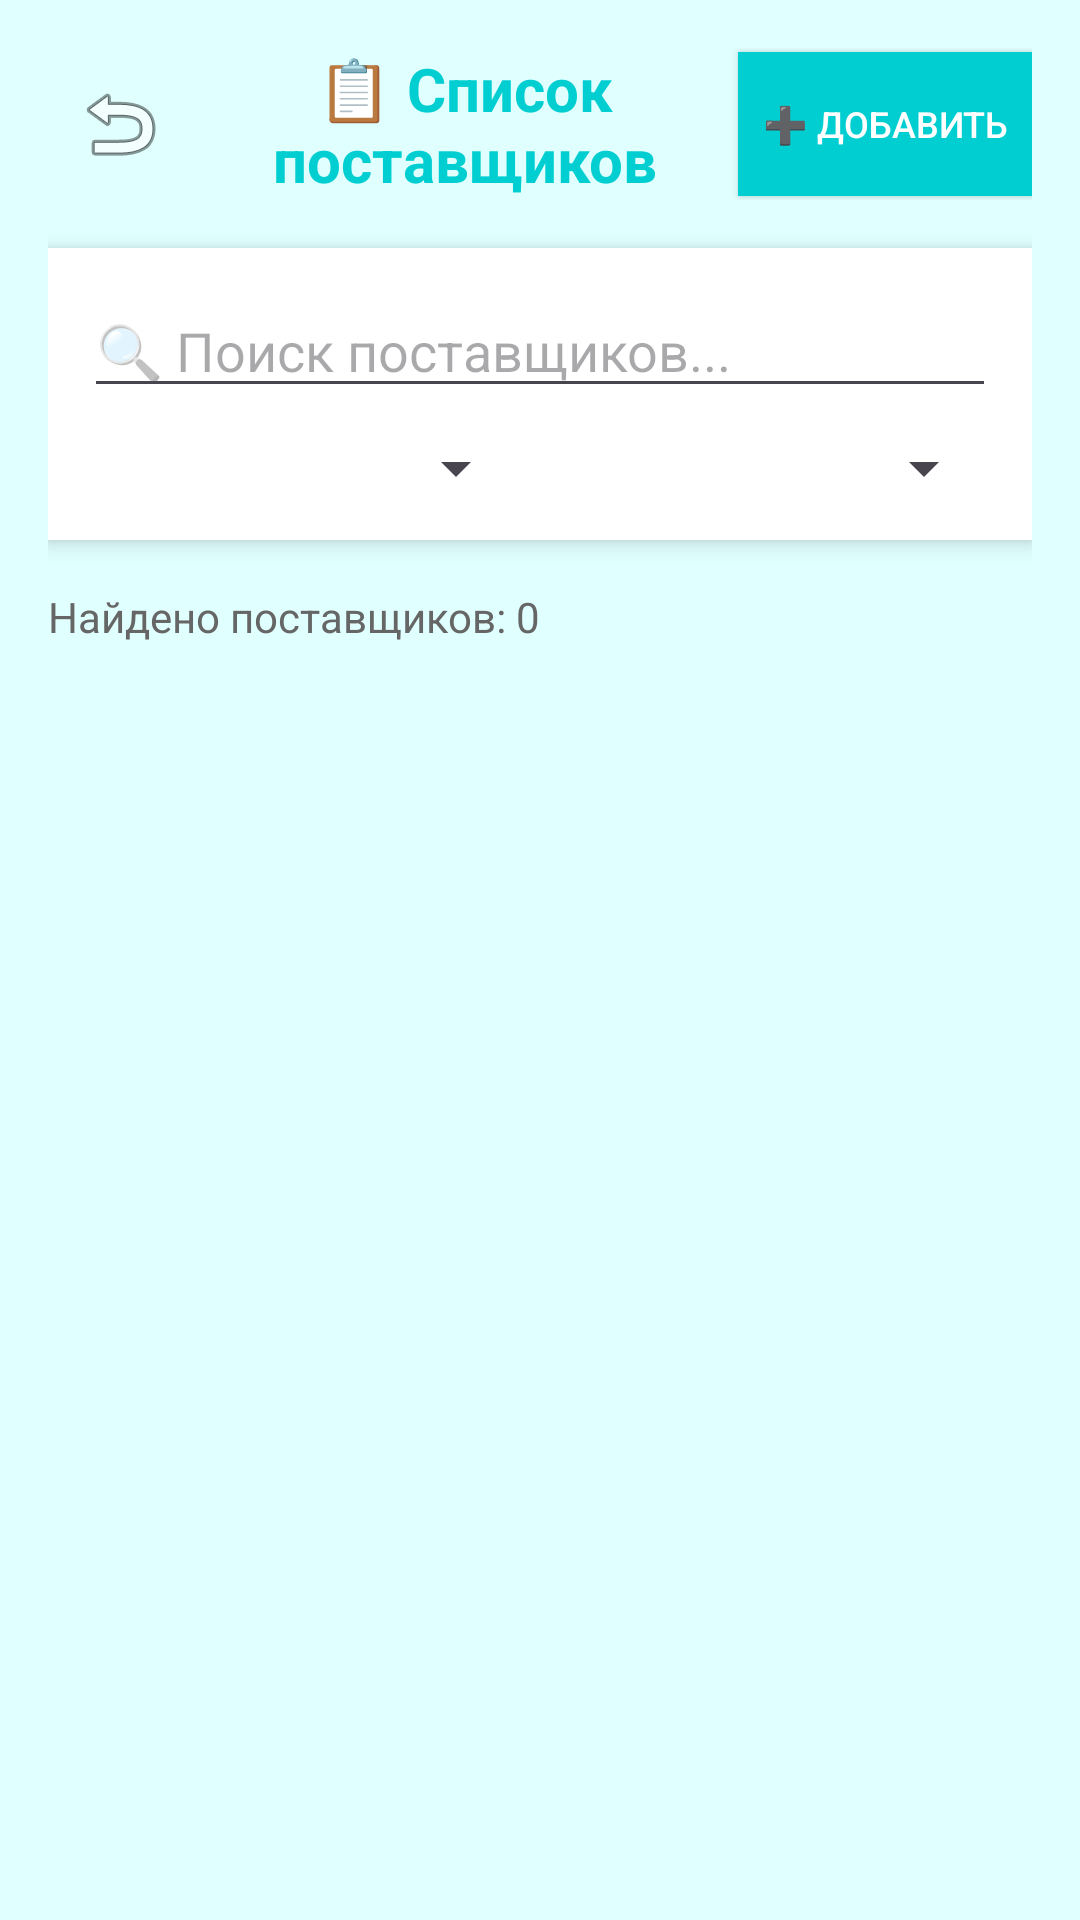

Icon click points for this 1080 x 1920 phone screenshot, format point (x, y):
Назад: point (121, 124)
